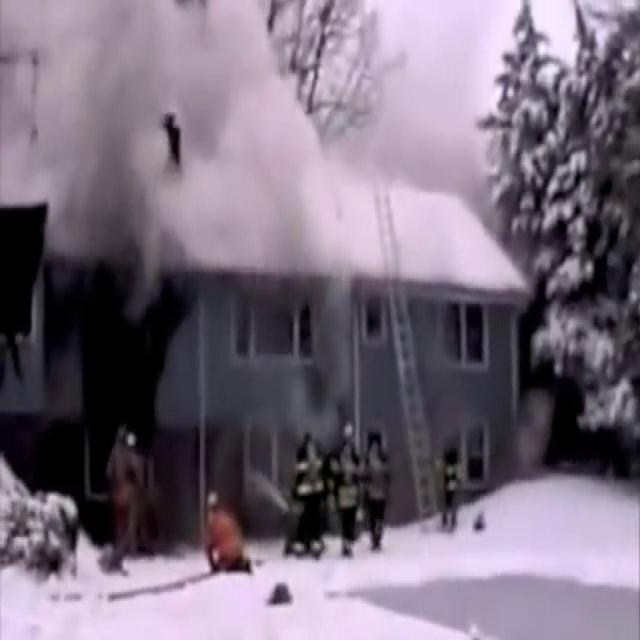Smoke: (1, 0, 525, 284)
